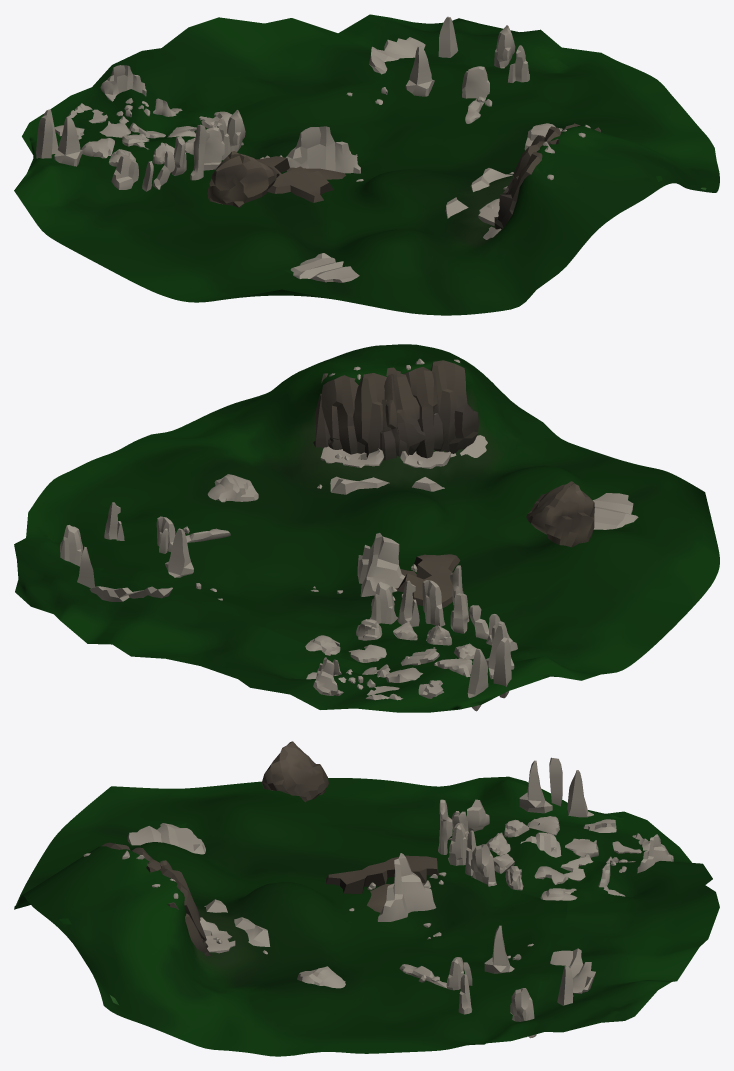
The model's file is rock.fbx.
3 views of the same model, one above another, from view 1: azimuth 30°, elevation 25°; view 2: azimuth 150°, elevation 25°; view 3: azimuth 270°, elevation 25° (orthographic).
Parts seen in each view (by area): view 1: Plane, rock.047, rock.005, rock.046, rock.040, rock.061, rock.044, rock.026, rock.043, rock.004, rock.029, rock.010 (+9 smaller); view 2: Plane, rock.040, rock.047, rock.005, rock.046, rock.061, rock.062, rock.074, rock.043, rock.044, rock.008, rock.069 (+8 smaller); view 3: Plane, rock.047, rock.046, rock.005, rock.040, rock.061, rock.044, rock.004, rock.074, rock.008, rock.043, rock.018 (+9 smaller).
Boxes of the visible parts, x1,y1,x2,y2 form: Plane: (14,14,719,315); rock.047: (207,151,279,207); rock.005: (286,126,360,173); rock.046: (256,156,345,202); rock.040: (494,123,600,229); rock.061: (290,253,359,282); rock.044: (369,37,425,74); rock.026: (100,65,146,101); rock.043: (405,46,434,96); rock.004: (54,116,83,166); rock.029: (462,66,489,98); rock.010: (204,127,224,170); Plane: (14,344,719,712); rock.040: (313,360,478,460); rock.047: (526,481,594,547); rock.005: (357,533,405,596); rock.046: (395,554,464,607); rock.061: (593,493,638,529); rock.062: (207,474,258,502); rock.074: (330,453,456,494); rock.043: (165,528,193,577); rock.044: (89,586,172,601); rock.008: (370,581,397,624); rock.069: (320,446,383,467); Plane: (14,776,719,1056); rock.047: (262,741,328,802); rock.046: (326,855,438,912); rock.005: (377,853,436,921); rock.040: (101,842,210,956); rock.061: (127,823,205,854); rock.044: (550,948,595,993); rock.004: (519,760,552,813); rock.074: (204,899,270,946); rock.008: (471,844,496,886); rock.043: (484,925,514,973); rock.018: (567,770,593,817).
Size of the model in its own units: 15622 by 3421 by 15804.
